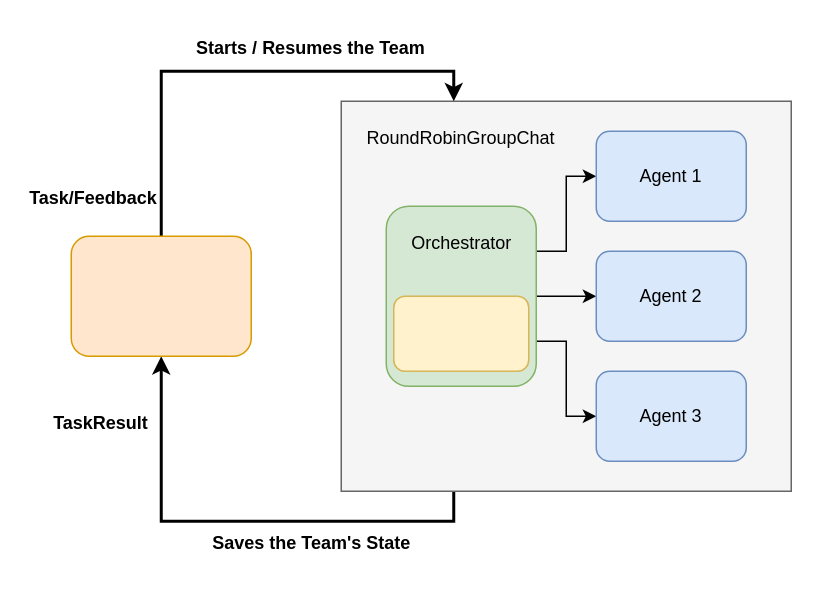
This 818x591 diagram has some shape labels left out. The shapes that lost their labels are listed below. From the top down, each one's centre as x and y in pixels, then its label:
(160,295): Application/User
(460,333): Termination Condition
